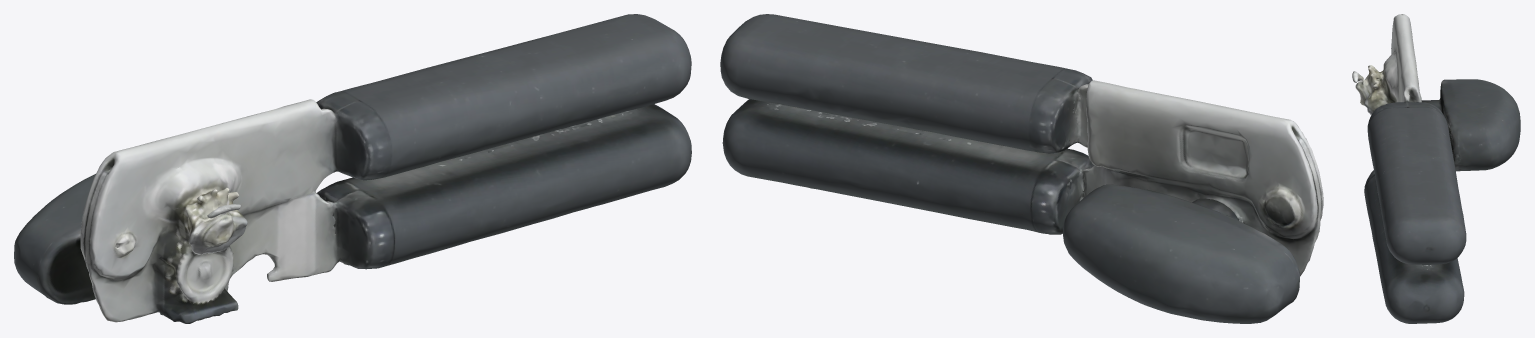
Rendered from Granimals_20_Wooden_ABC_Blocks_Wagon_g2TinmUGGHI.glb.
The picture shows the model from 3 angles, left to right: view 1: azimuth 30°, elevation 25°; view 2: azimuth 150°, elevation 25°; view 3: azimuth 270°, elevation 25°; orthographic projection. The views are drawn at different scales.
Parts seen in each view (by area): view 1: Granimals_20_Wooden_ABC_Blocks_Wagon_g2TinmUGGHI; view 2: Granimals_20_Wooden_ABC_Blocks_Wagon_g2TinmUGGHI; view 3: Granimals_20_Wooden_ABC_Blocks_Wagon_g2TinmUGGHI.
Part boxes in pixels (x1=…): Granimals_20_Wooden_ABC_Blocks_Wagon_g2TinmUGGHI: x1=14, y1=14, x2=691, y2=323; Granimals_20_Wooden_ABC_Blocks_Wagon_g2TinmUGGHI: x1=720, y1=14, x2=1323, y2=323; Granimals_20_Wooden_ABC_Blocks_Wagon_g2TinmUGGHI: x1=1352, y1=14, x2=1520, y2=323.
Size of the model in its own units: 0.1918 by 0.0505 by 0.0637.
1 material, 1 textured.
